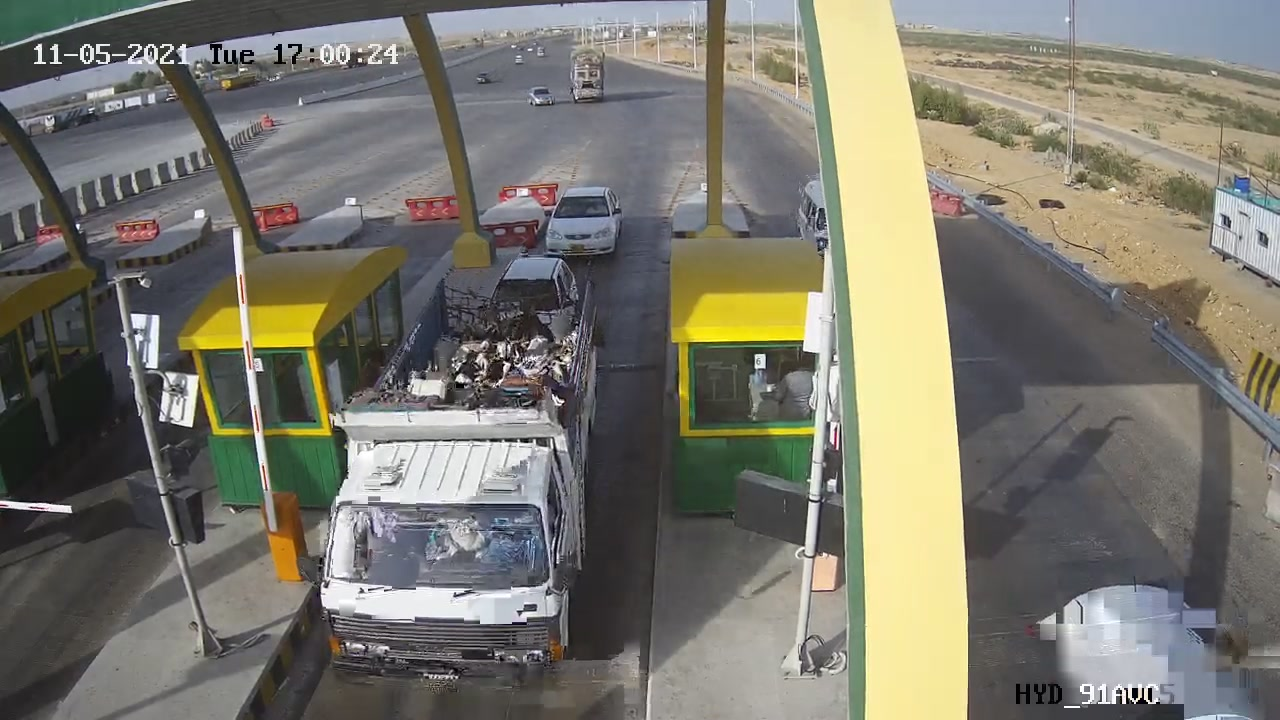F1: (535, 179, 637, 269)
